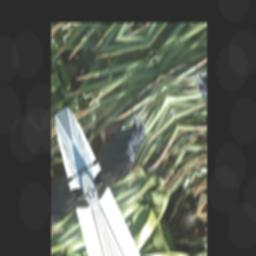Crow: (76, 112, 157, 203)
